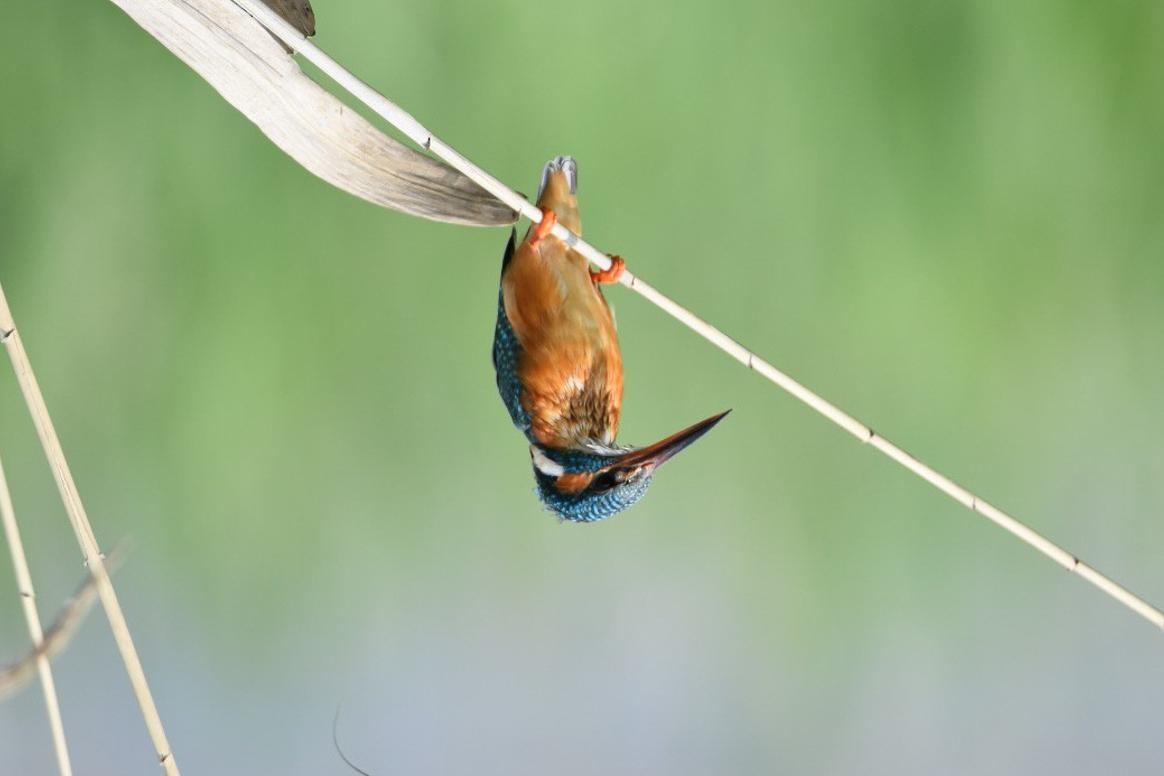kingfisher: (459, 164, 740, 539)
